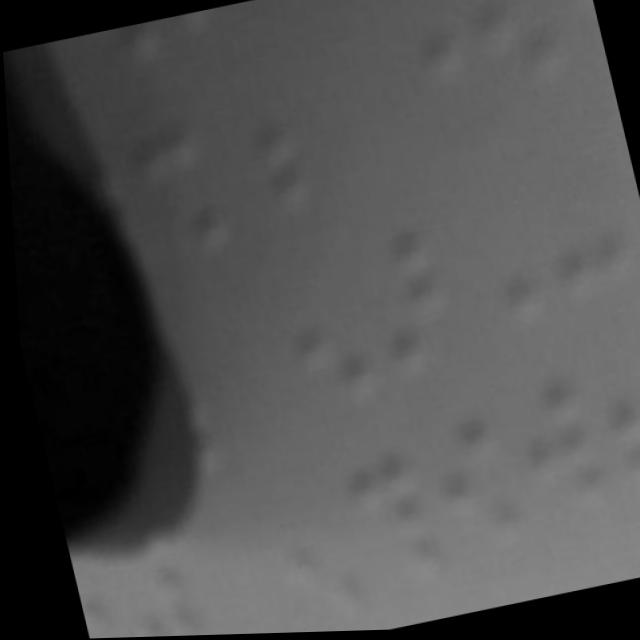braiile: (407, 409, 522, 574), (527, 155, 640, 318), (268, 268, 373, 433), (347, 235, 453, 395), (247, 480, 355, 635), (491, 377, 599, 529), (440, 197, 546, 348), (332, 451, 435, 602), (448, 0, 567, 112), (583, 349, 640, 496)
